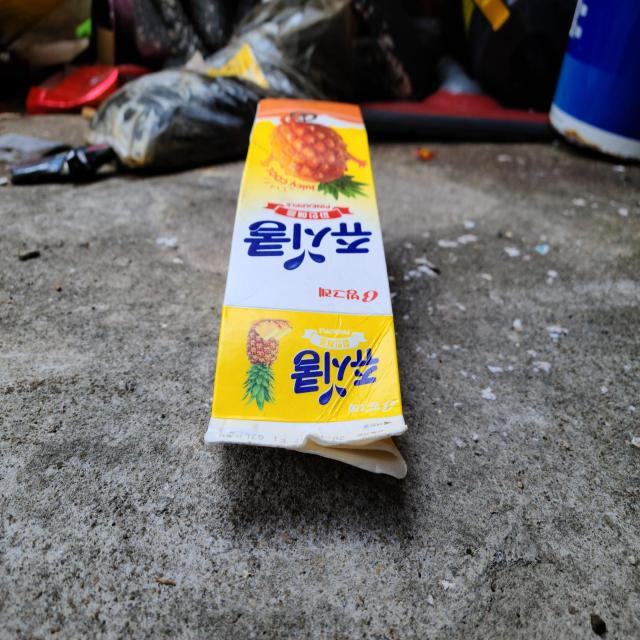paperpack: (205, 98, 407, 478)
